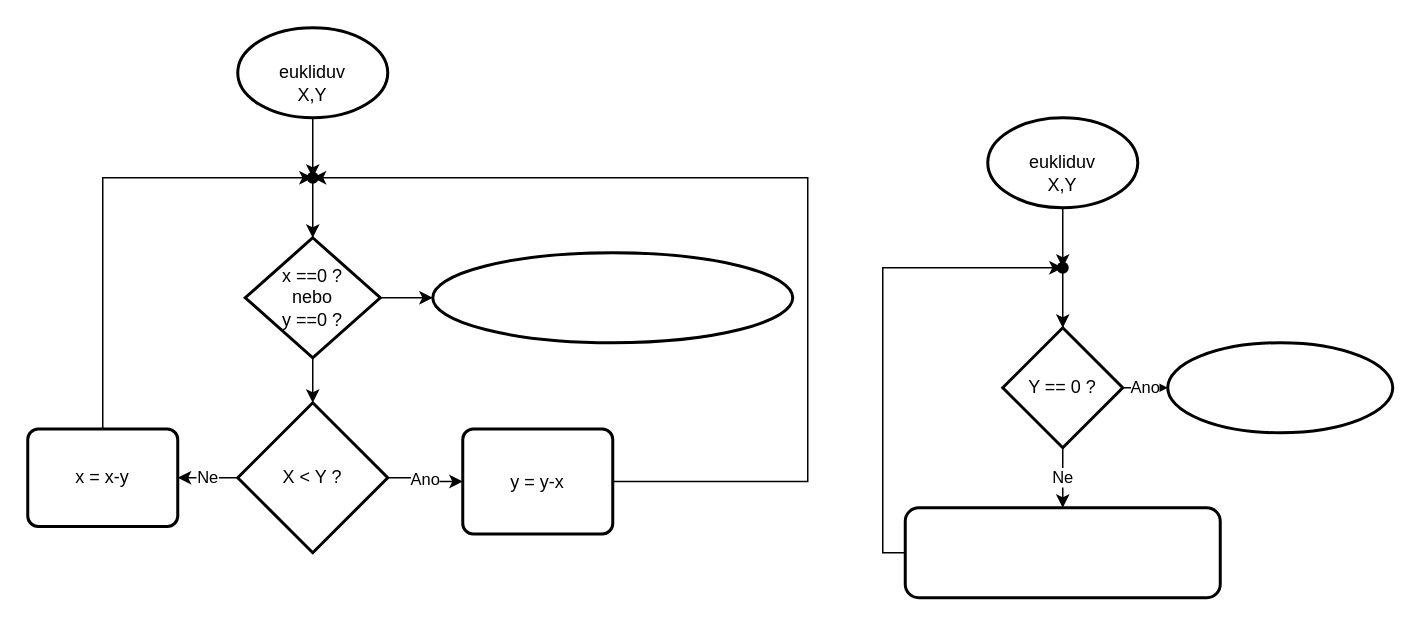
The diagram is 1419 pixels wide and 624 high, and some of its shapes have lost their labels. The centre of each missing label's shape, as x and y in pixels:
"NSD ( výsledek je X)" goes at (x=1280, y=387).
"NSD (x, nebo y - to které není nula)" goes at (x=612, y=297).
"Z = X % Y (zbytek po dělení) X = Y Y = Z" goes at (x=1062, y=552).
